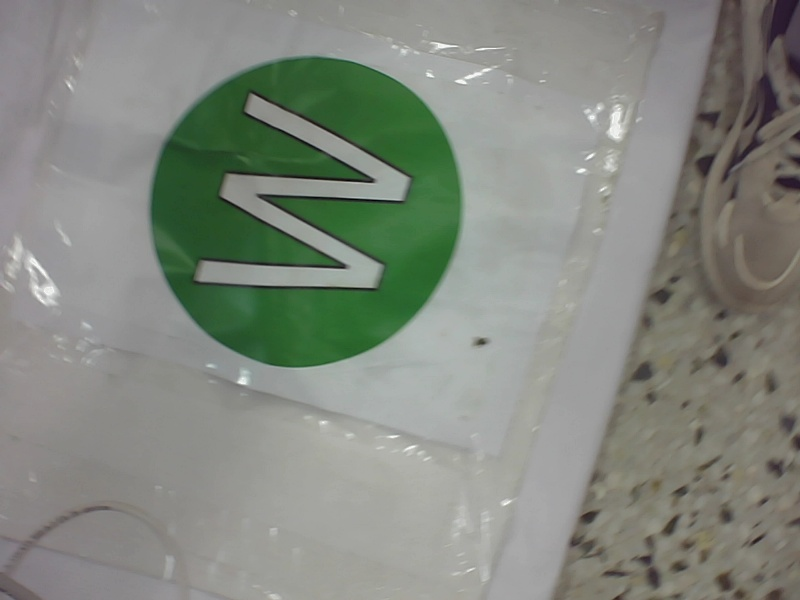areaB: (140, 48, 469, 376)
